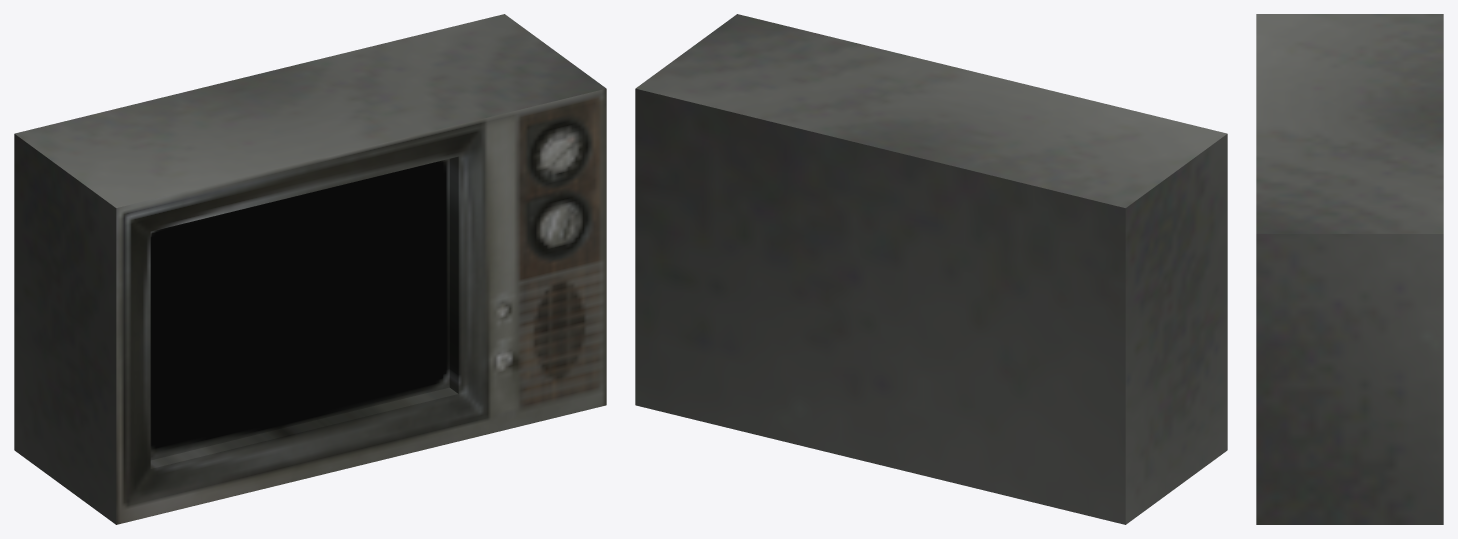
The model's file is old_tv_1.FBX.
3 renders of one model, left to right at view 1: azimuth 30°, elevation 25°; view 2: azimuth 150°, elevation 25°; view 3: azimuth 270°, elevation 25°, orthographic. The views are drawn at different scales.
Parts seen in each view (by area): view 1: old_tv_1; view 2: old_tv_1; view 3: old_tv_1.
Boxes of the visible parts, <box> form: old_tv_1: <box>14,14,606,524</box>; old_tv_1: <box>635,14,1227,524</box>; old_tv_1: <box>1256,14,1443,524</box>.
Size of the model in its own units: 69.06 by 42.63 by 24.86.
